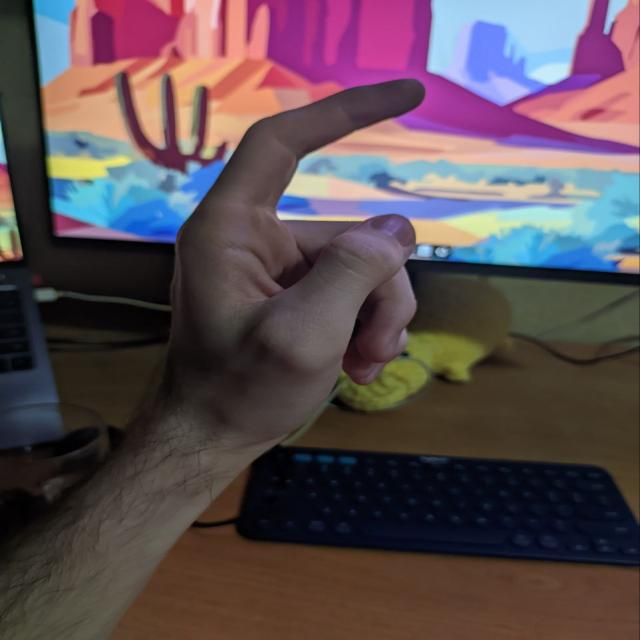kh: (137, 32, 446, 435)
